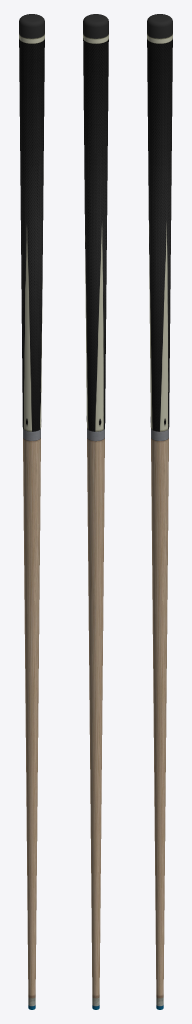
File: pool_cue.fbx
3 views of the same model, side by side, from view 1: azimuth 90°, elevation 25°; view 2: azimuth 150°, elevation 25°; view 3: azimuth 270°, elevation 25° (orthographic).
Parts seen in each view (by area): view 1: pool_cue; view 2: pool_cue; view 3: pool_cue.
Boxes of the visible parts, box(x1,y1,x2,y2) form: pool_cue: box(19, 14, 44, 1009); pool_cue: box(83, 14, 108, 1009); pool_cue: box(147, 14, 172, 1009).
Bounding box in the file's own units: 0.0406 × 1.72 × 0.041.
